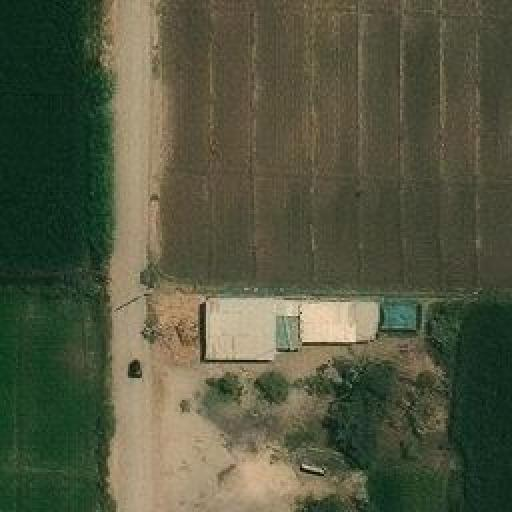manzanas: (201, 297, 420, 364)
